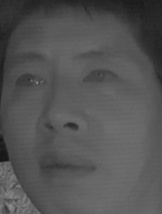eye: (81, 65, 123, 91), (13, 69, 51, 93)
mouth: (39, 151, 95, 183)
